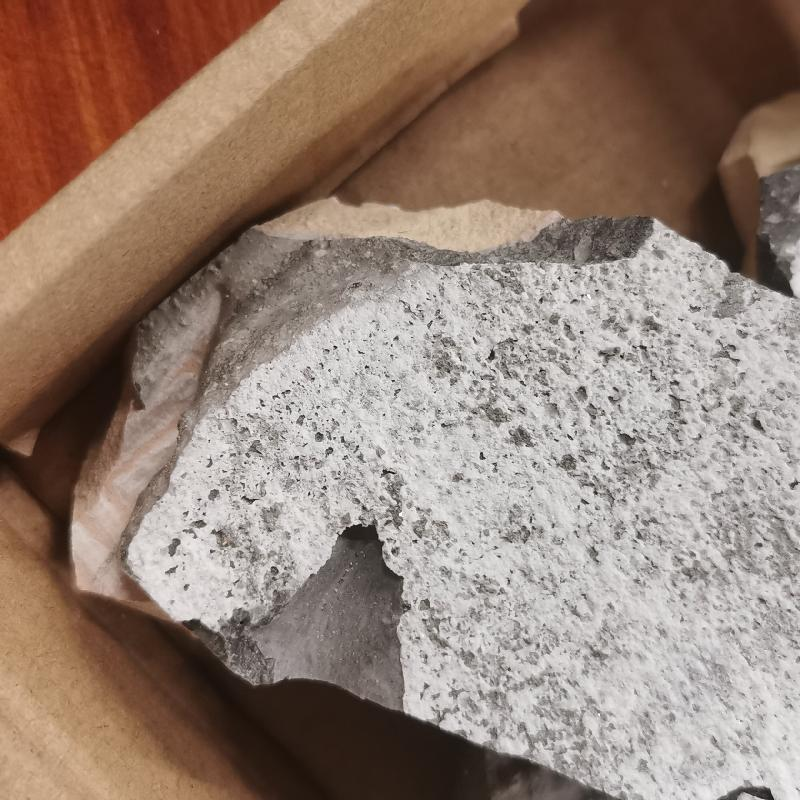tile: (119, 220, 800, 792)
